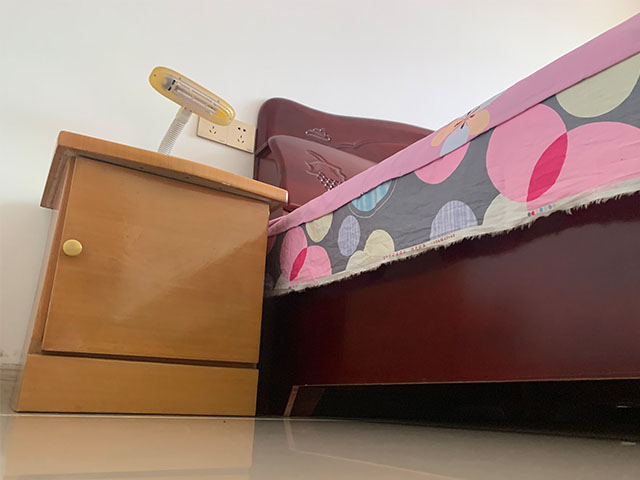bed: (251, 11, 639, 420)
cabinet: (7, 126, 290, 419)
